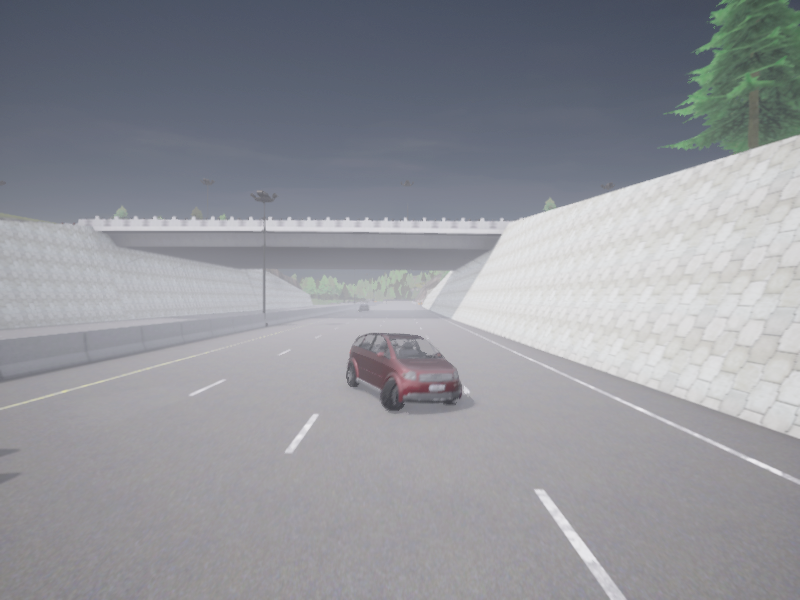vehicle: (347, 332, 462, 410), (359, 304, 369, 311)
